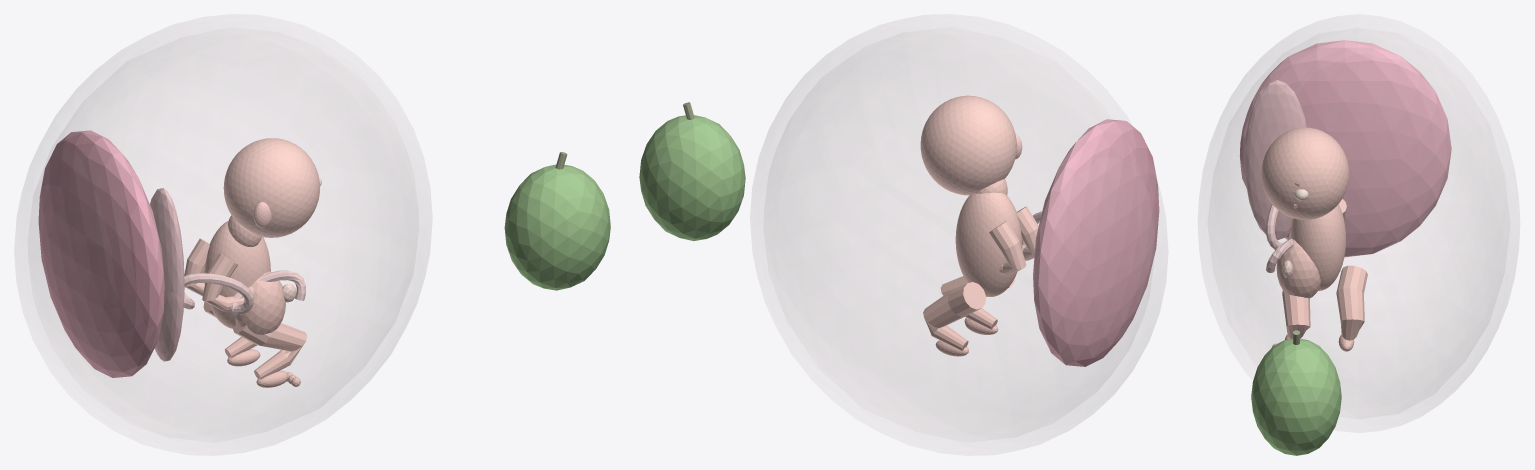
File: hafta_16.glb
The picture shows the model from 3 angles, left to right: view 1: azimuth 30°, elevation 25°; view 2: azimuth 150°, elevation 25°; view 3: azimuth 270°, elevation 25°; orthographic projection. The views are drawn at different scales.
Visible parts, largest first — view 1: Gebelik_kesesi_dis_zar_25, Plasenta_gelisen_doku_27, Meyve_Avokado_29, Bas_1, Plasenta_yumusak_yuzey_28, Gogus_govde_2, Gobel_ve_karin_3, Bacak_on_18, Gobek_kordonu_ogretici_24, Kol_on_11, Kol_on_arka_9; view 2: Gebelik_kesesi_dis_zar_25, Plasenta_gelisen_doku_27, Meyve_Avokado_29, Bas_1, Gogus_govde_2, Bacak_arka_16, Kol_on_arka_9, Kol_on_11, Bacak_on_18; view 3: Gebelik_kesesi_dis_zar_25, Plasenta_gelisen_doku_27, Meyve_Avokado_29, Bas_1, Plasenta_yumusak_yuzey_28, Gogus_govde_2, Bacak_arka_16, Gobel_ve_karin_3, Bacak_on_18, Gobek_kordonu_ogretici_24.
Part boxes in pixels (box(x1,y1,x2,y2)): Gebelik_kesesi_dis_zar_25: box(14, 14, 431, 455); Plasenta_gelisen_doku_27: box(38, 130, 164, 377); Meyve_Avokado_29: box(504, 164, 610, 290); Bas_1: box(223, 138, 319, 237); Plasenta_yumusak_yuzey_28: box(150, 188, 184, 361); Gogus_govde_2: box(204, 221, 270, 328); Gobel_ve_karin_3: box(235, 271, 285, 334); Bacak_on_18: box(233, 323, 307, 379); Gobek_kordonu_ogretici_24: box(184, 270, 305, 314); Kol_on_11: box(202, 253, 244, 311); Kol_on_arka_9: box(184, 238, 209, 296); Gebelik_kesesi_dis_zar_25: box(750, 14, 1167, 455); Plasenta_gelisen_doku_27: box(1033, 119, 1159, 366); Meyve_Avokado_29: box(639, 115, 745, 240); Bas_1: box(920, 95, 1016, 195); Gogus_govde_2: box(955, 192, 1022, 296); Bacak_arka_16: box(923, 282, 985, 351); Kol_on_arka_9: box(988, 221, 1026, 275); Kol_on_11: box(1017, 206, 1038, 260); Bacak_on_18: box(940, 276, 1015, 329); Gebelik_kesesi_dis_zar_25: box(1198, 14, 1519, 432); Plasenta_gelisen_doku_27: box(1239, 40, 1451, 257); Meyve_Avokado_29: box(1251, 338, 1341, 455); Bas_1: box(1261, 127, 1349, 219); Plasenta_yumusak_yuzey_28: box(1244, 80, 1306, 240); Gogus_govde_2: box(1290, 204, 1345, 290); Bacak_arka_16: box(1336, 265, 1367, 340); Gobel_ve_karin_3: box(1276, 238, 1320, 298); Bacak_on_18: box(1282, 290, 1310, 338); Gobek_kordonu_ogretici_24: box(1266, 203, 1293, 272).
Bounding box in the file's own units: 11.03 × 8.1 × 6.2.
